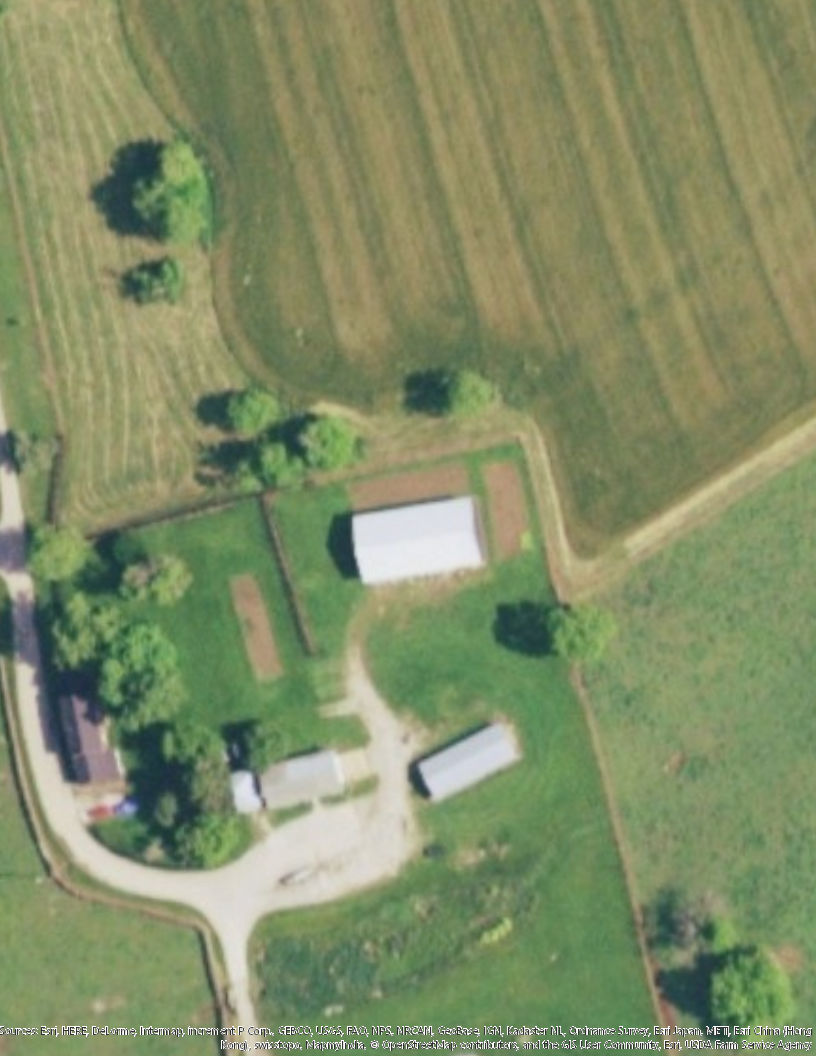cafo: (339, 497, 493, 586), (413, 722, 532, 810)
